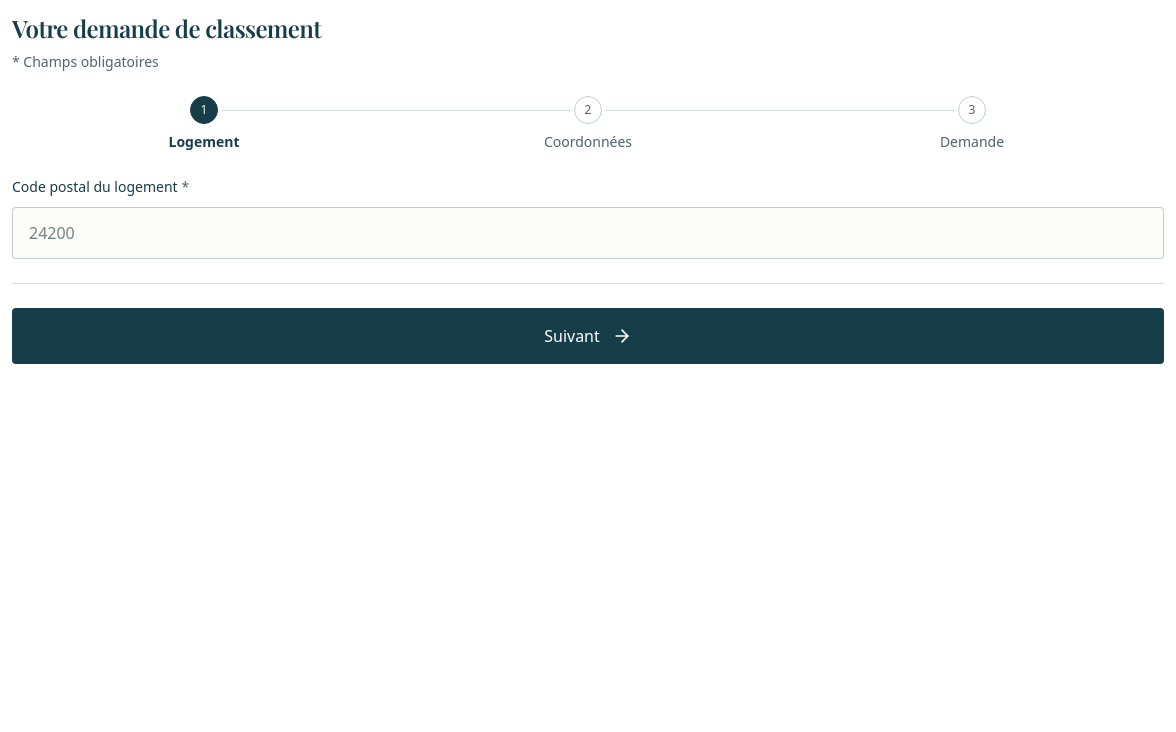
Test: étape Logement › only searches once five digits are entered and keeps digits only
The width and height of the screenshot is (1176, 732).
In the field labelled "Code postal du logement*": [588, 233] box [12,207,1164,259], type "24a1"
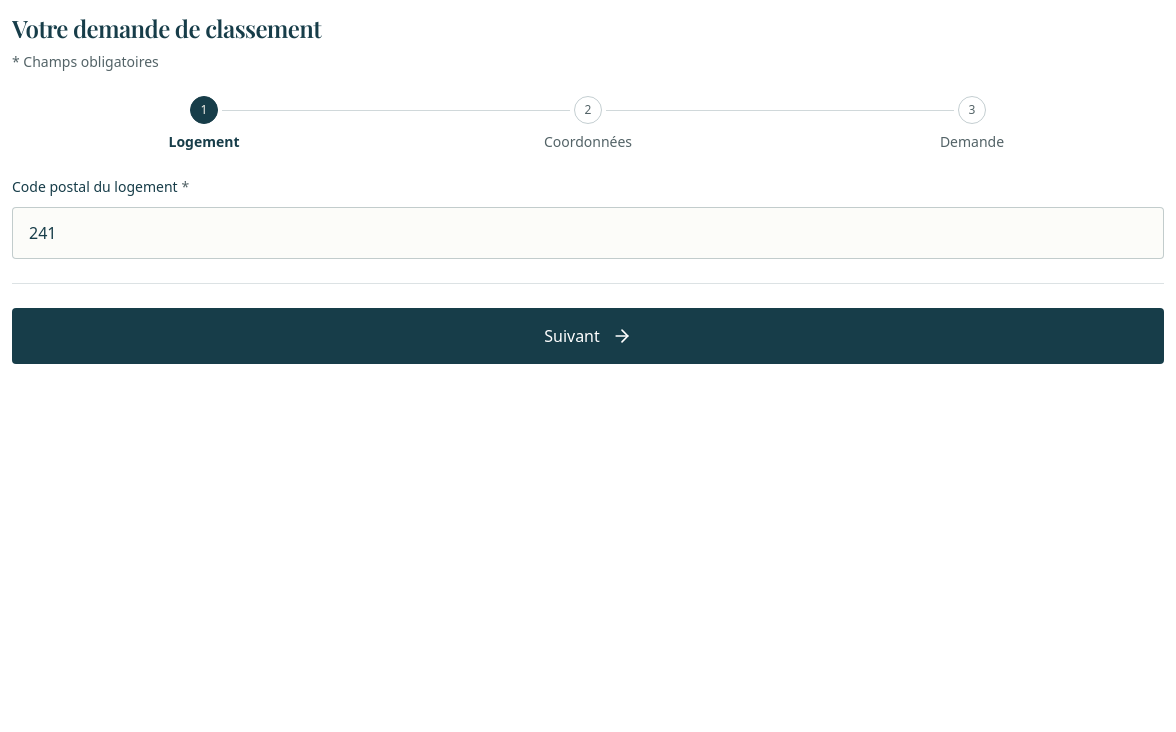
Replace the text in the field labelled "Code postal du logement*" with "24 150": [588, 233] box [12,207,1164,259]
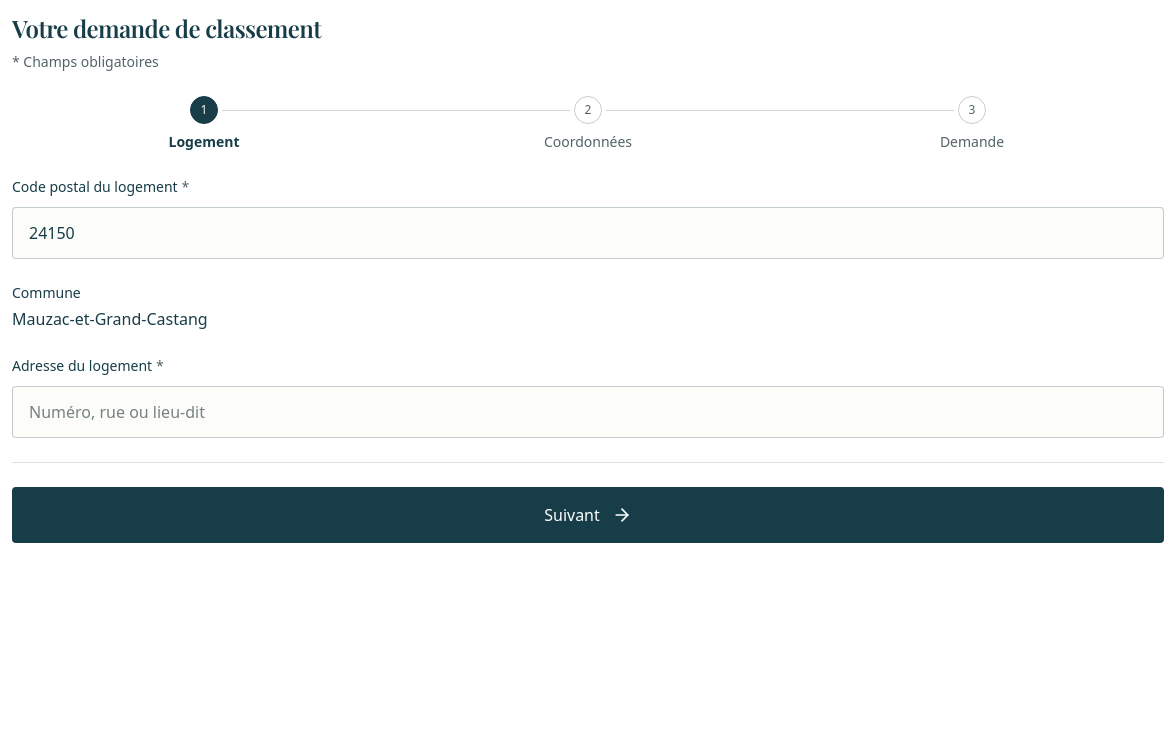
Expected: the text "Mauzac-et-Grand-Castang" is shown, [12,308,208,330]
